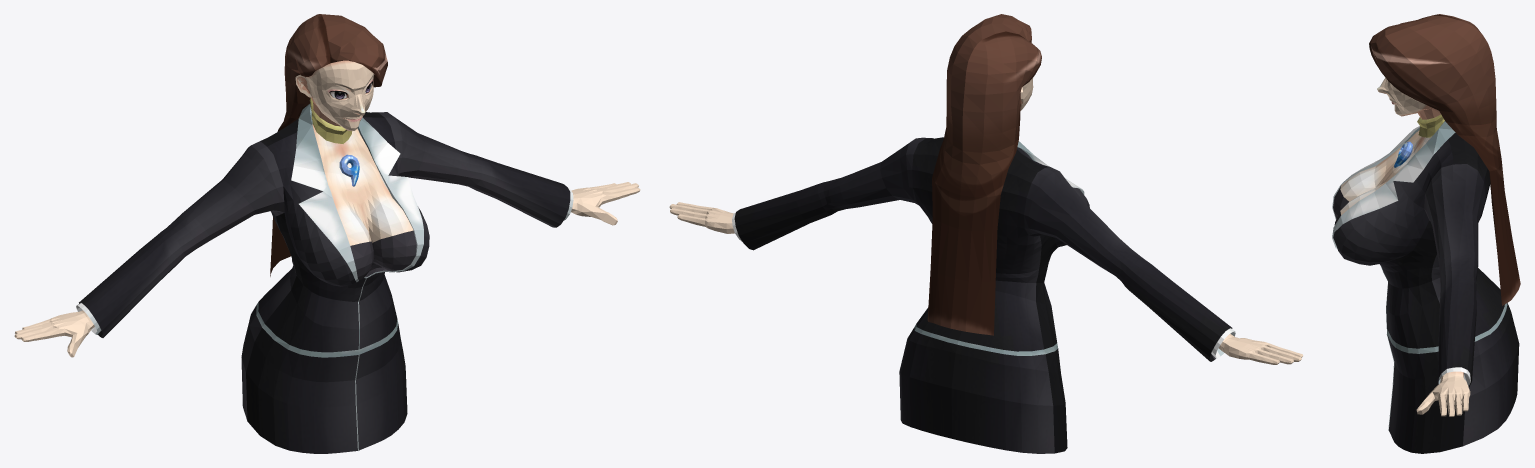
The model's file is chihiro.dae.
The picture shows the model from 3 angles, left to right: view 1: azimuth 30°, elevation 25°; view 2: azimuth 150°, elevation 25°; view 3: azimuth 270°, elevation 25°; orthographic projection.
Parts seen in each view (by area): view 1: Body_003, Hair, Face, Body_000; view 2: Body_003, Hair; view 3: Body_003, Hair, Face, Body_000, Plane_005.
Boxes of the visible parts, x1,y1,x2,y2 form: Body_003: (14, 103, 640, 453); Hair: (270, 14, 387, 276); Face: (295, 60, 374, 130); Body_000: (309, 98, 352, 143); Body_003: (669, 137, 1303, 453); Hair: (927, 14, 1041, 335); Body_003: (1332, 121, 1519, 453); Hair: (1369, 14, 1520, 305); Face: (1377, 78, 1440, 119); Body_000: (1417, 114, 1444, 137); Plane_005: (1394, 141, 1412, 167).
Size of the model in its own units: 1.66 by 0.4342 by 1.05.
Materials: 4 (4 with a texture image).
